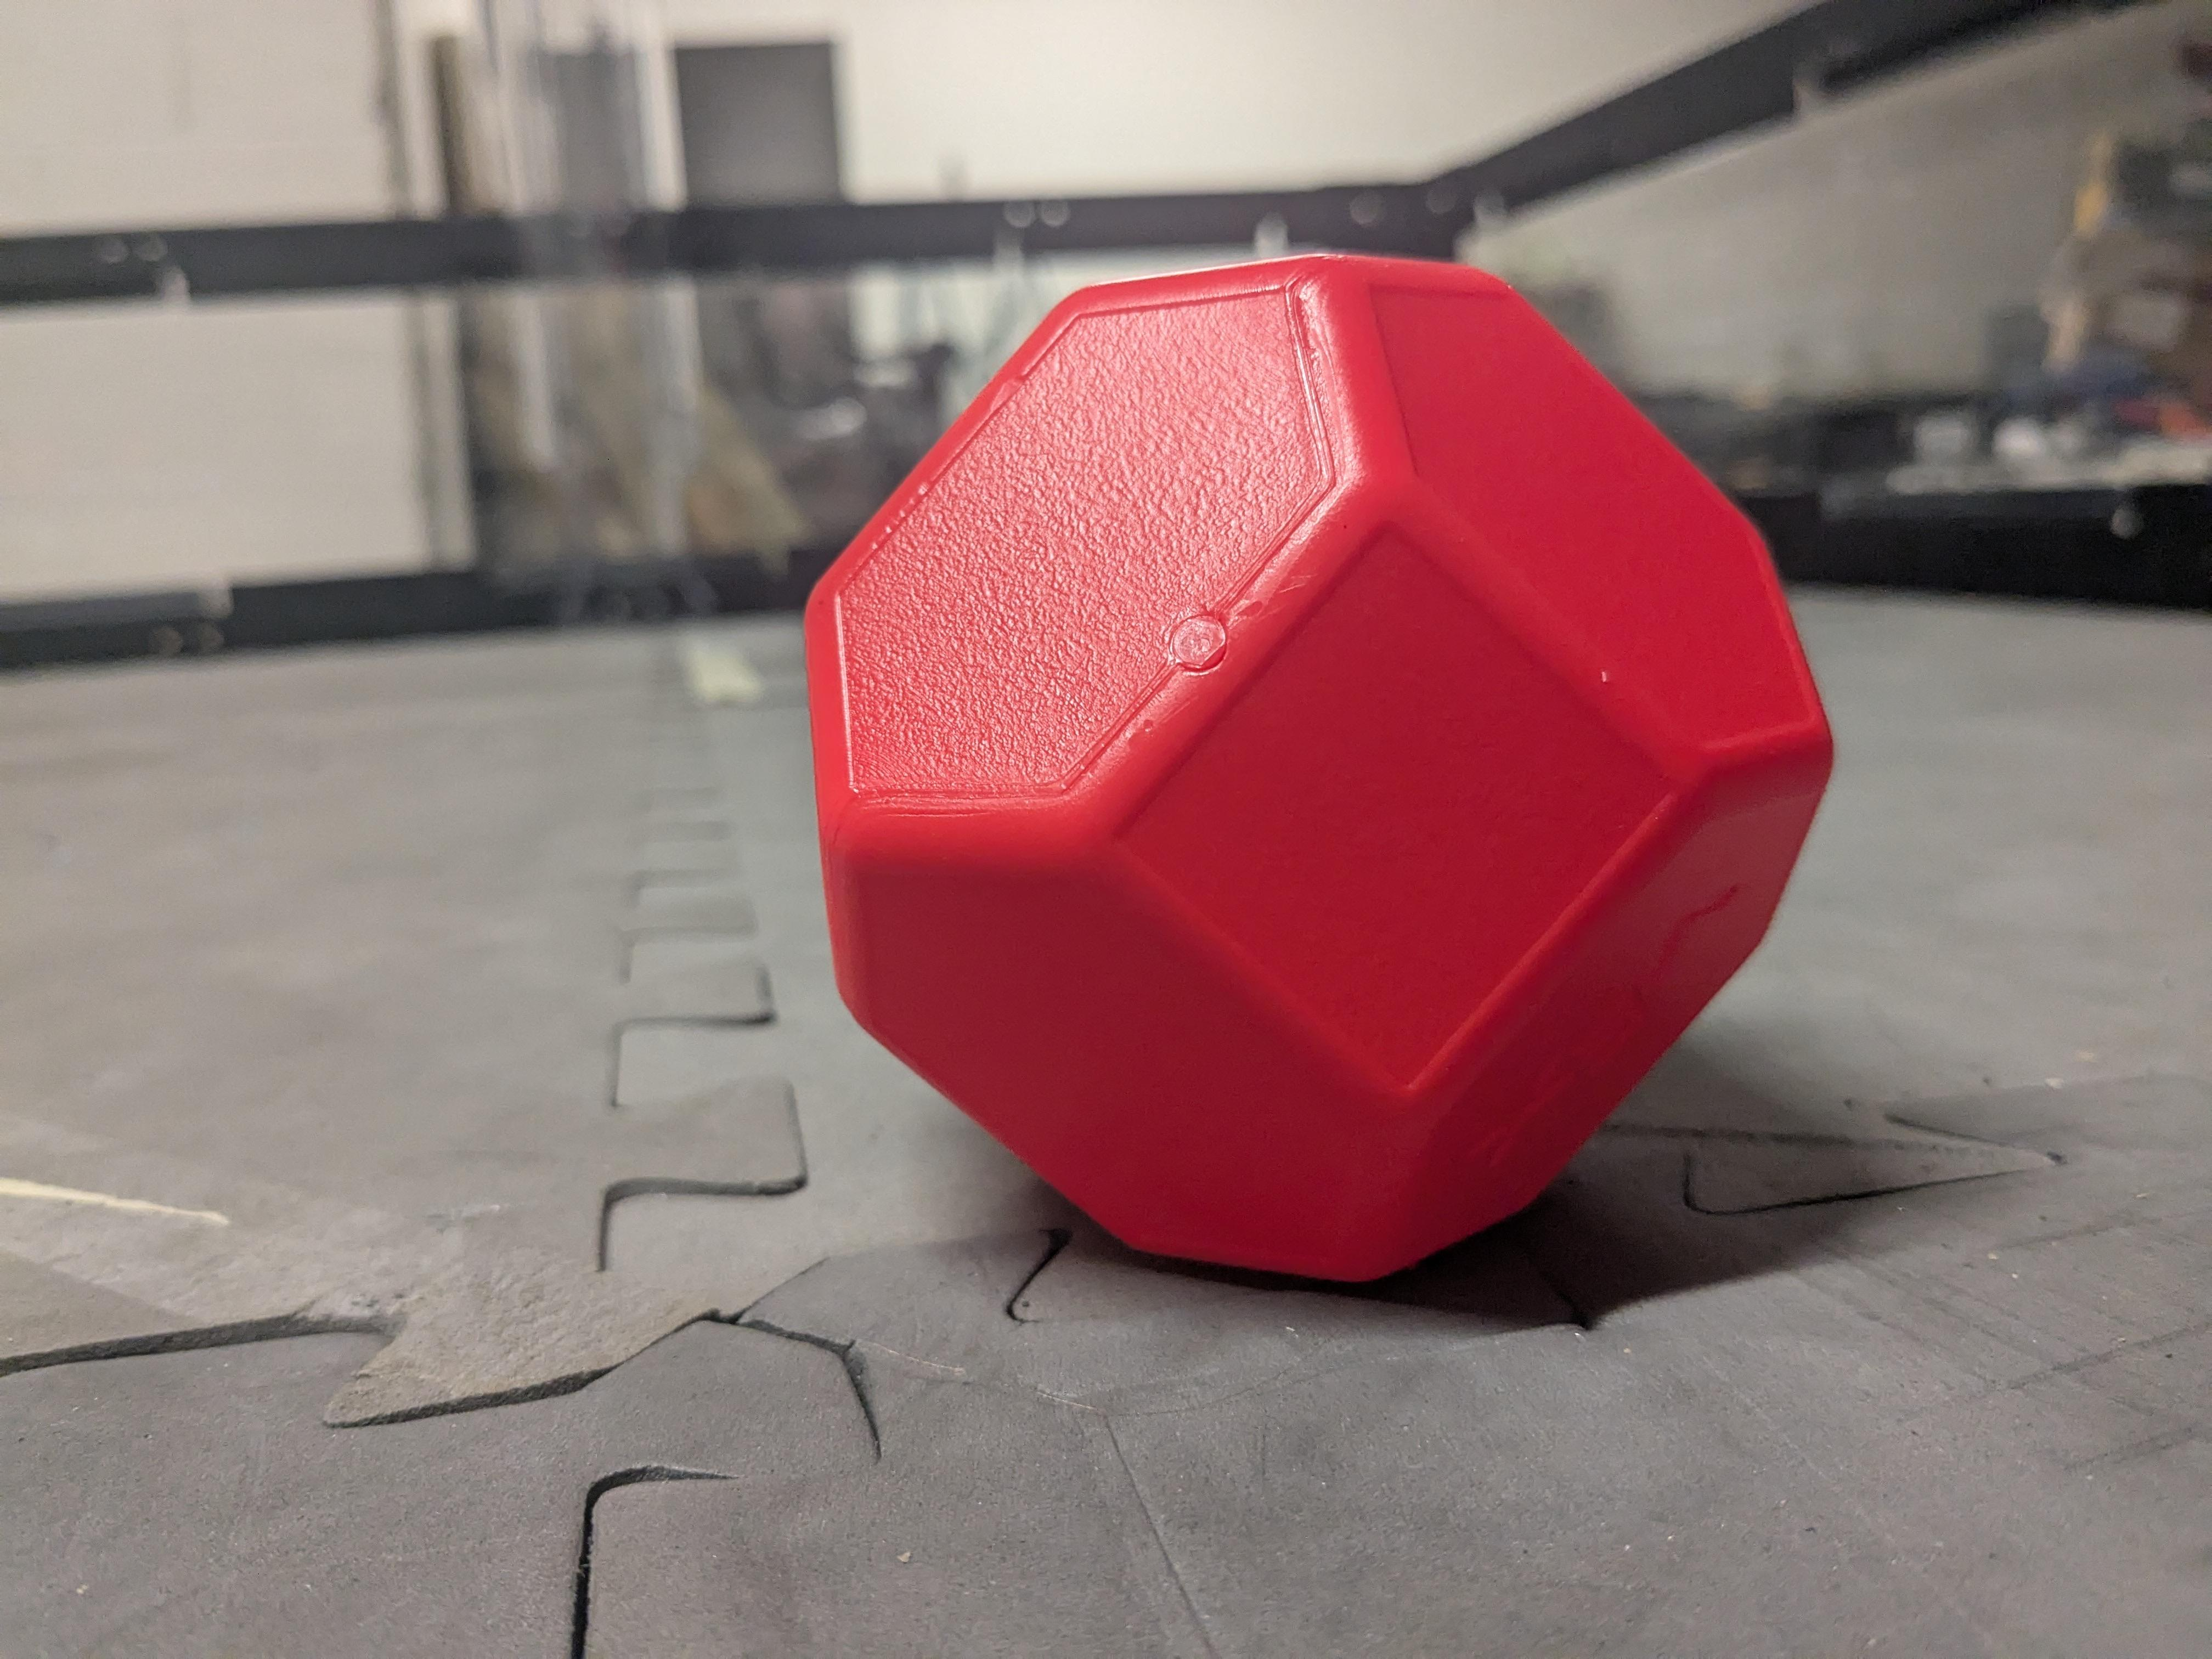Vex-Pieces-RED: (808, 258, 1831, 1279)
